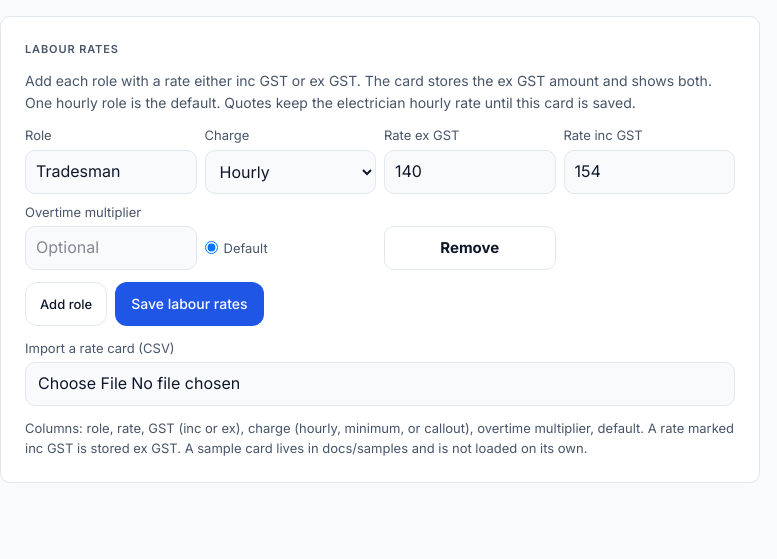
LabourRatesCard remove › asks before a role leaves the card
Expected: the field showing "Tradesman" is shown, [25,150,196,194]
Click the button with aria-label "Remove Tradesman". click: (470, 248)
box: [384,226,556,270]
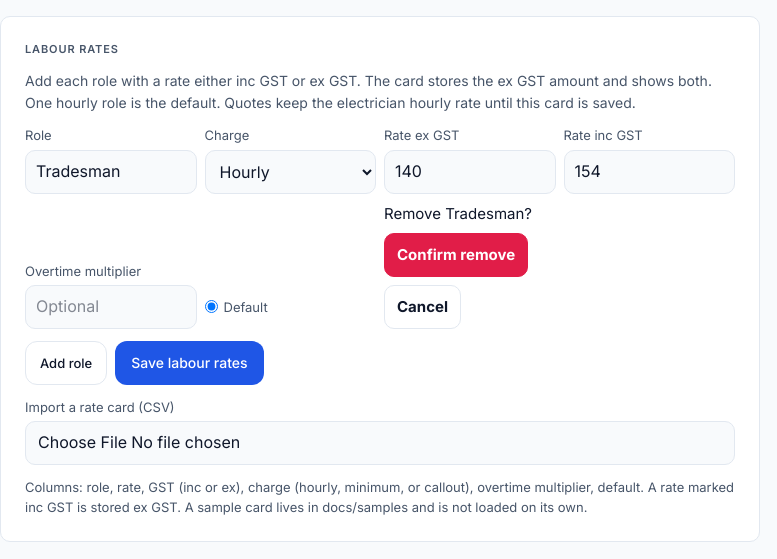
Expected: the field showing "Tradesman" is shown, [25,150,196,194]
Result: the text "Remove Tradesman?" is shown at [384,202,532,225]
Click the button "Confirm remove". click: (456, 255)
box: [384,233,528,277]
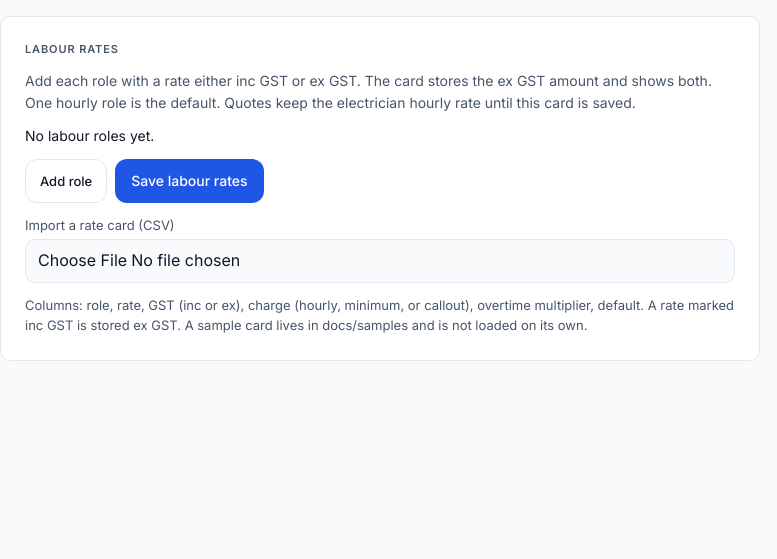
Result: the text showing "Tradesman" is gone
Result: the text "No labour roles yet." is shown at [25,127,154,144]
